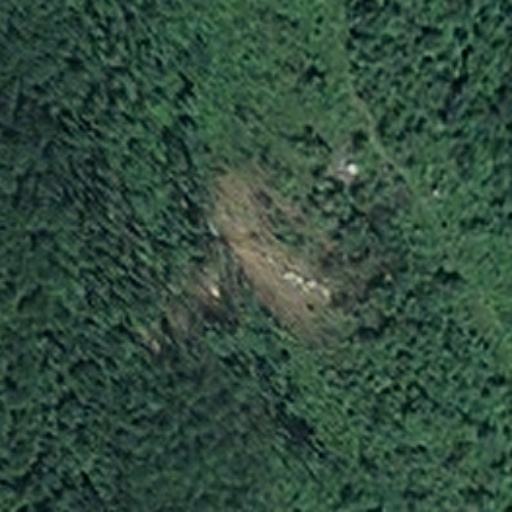landslide: (206, 171, 314, 329)
